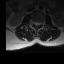CCS_normal: (36, 19, 37, 28)
LFS_normal: (40, 19, 42, 27)
LLS_normal: (37, 19, 40, 27)
RFS_normal: (32, 18, 34, 26)
RLS_normal: (34, 19, 36, 27)
